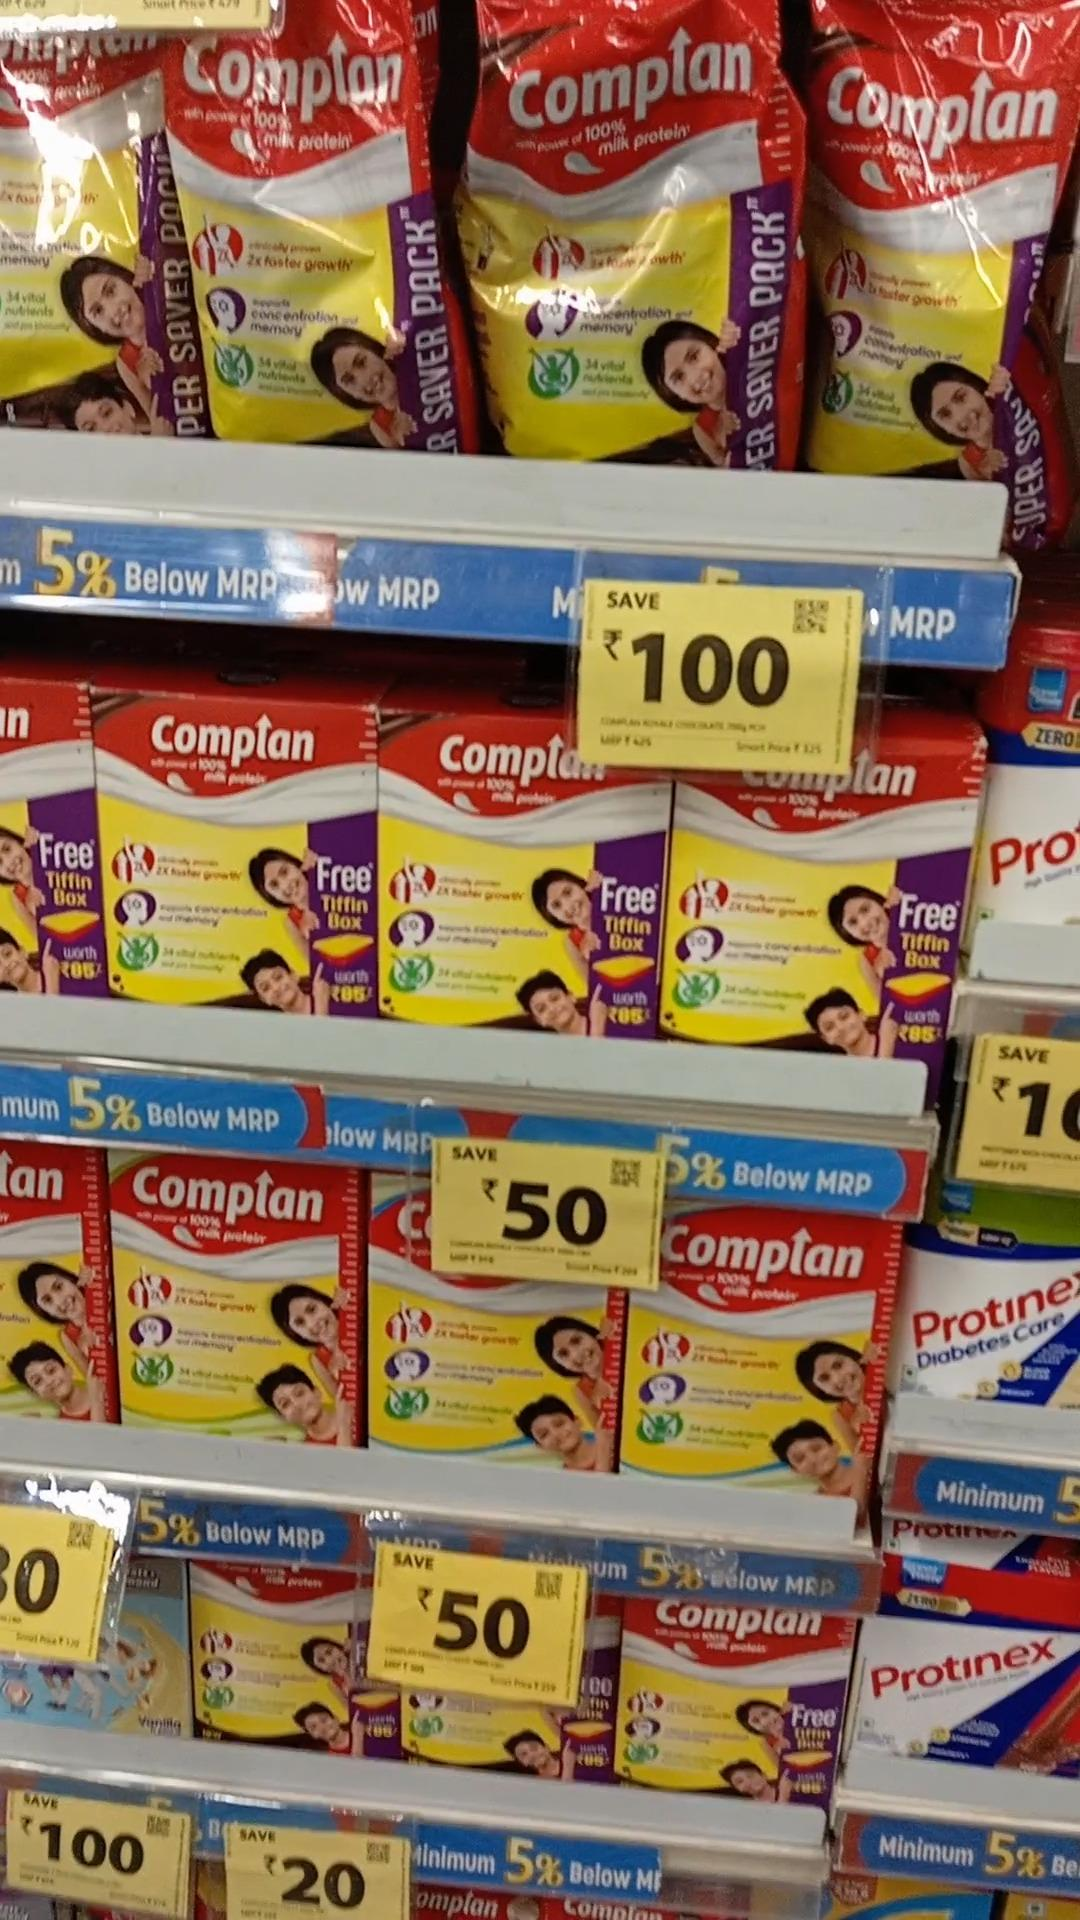COMPLAN_CHOCOLATE_500_GMS_PACK: (99, 694, 377, 1011), (386, 760, 666, 1036), (679, 774, 949, 1054), (624, 1597, 835, 1805), (194, 1563, 378, 1753)
COMPLAN_KESAR_BADAM_500_GMS_PACK: (630, 1230, 877, 1493), (368, 1258, 618, 1472)
COMPLAN_PISTA_BADAM_500_GMS_PACK: (111, 1153, 359, 1429)
COMPLAN_RC_POUCH_700_GMS_12: (472, 4, 798, 458), (177, 29, 458, 446), (811, 8, 1054, 464), (5, 41, 162, 426)
